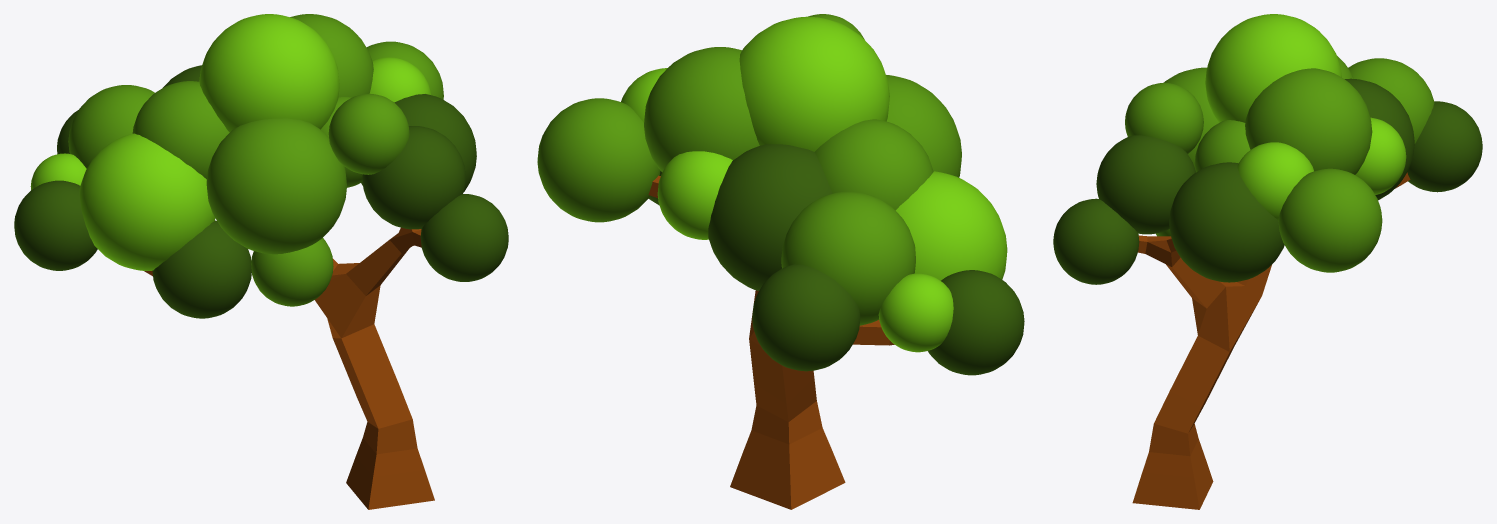
Rendered from Large Sphere Tree.fbx.
The picture shows the model from 3 angles, left to right: view 1: azimuth 30°, elevation 25°; view 2: azimuth 150°, elevation 25°; view 3: azimuth 270°, elevation 25°; orthographic projection. The views are drawn at different scales.
Parts seen in each view (by area): view 1: Cube; view 2: Cube; view 3: Cube.
Part boxes in pixels (left/top/right/bottom): Cube: left=14, top=14, right=508, bottom=509; Cube: left=537, top=14, right=1024, bottom=509; Cube: left=1053, top=14, right=1482, bottom=509.
Size of what is drawn, in the model's own units: 817 by 856 by 758.
